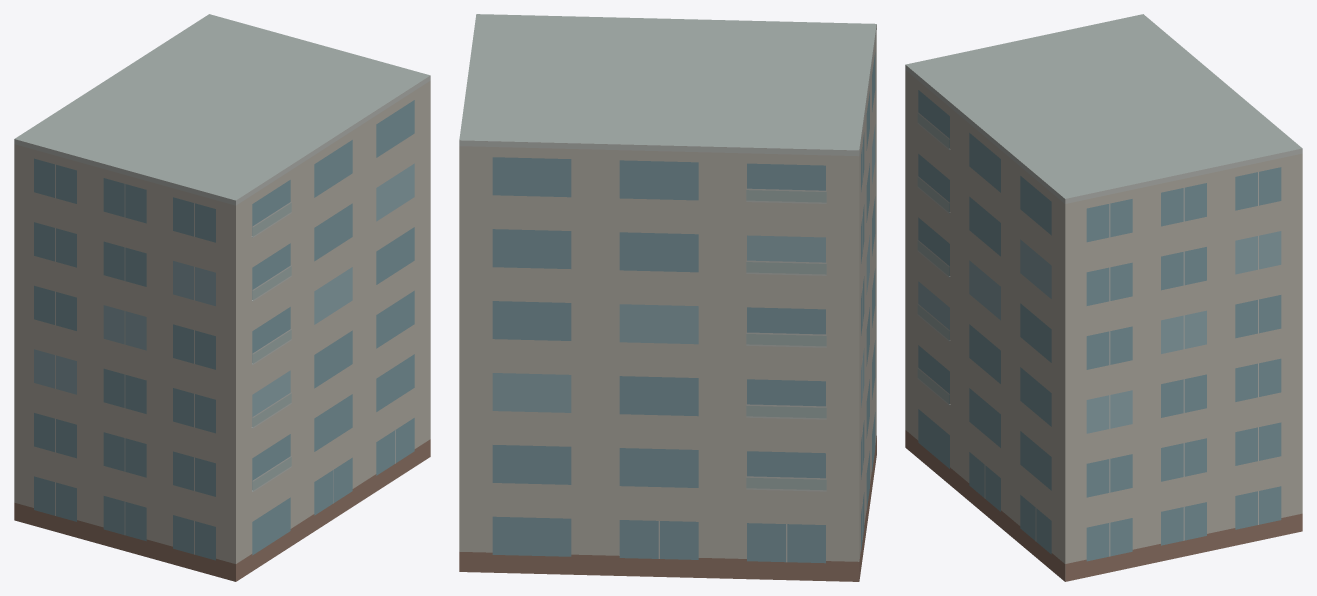
File: survey-upis-32698835.glb
3 views of the same model, side by side, from view 1: azimuth 30°, elevation 25°; view 2: azimuth 150°, elevation 25°; view 3: azimuth 270°, elevation 25° (orthographic). The views are drawn at different scales.
Parts seen in each view (by area): view 1: survey-upis-32698835.tmp; view 2: survey-upis-32698835.tmp; view 3: survey-upis-32698835.tmp.
Part boxes in pixels (x1,y1,x2,y2): survey-upis-32698835.tmp: (14,14,430,581); survey-upis-32698835.tmp: (459,14,876,581); survey-upis-32698835.tmp: (905,14,1302,581).
Size of the model in its own units: 18.96 by 18.3 by 17.22.
